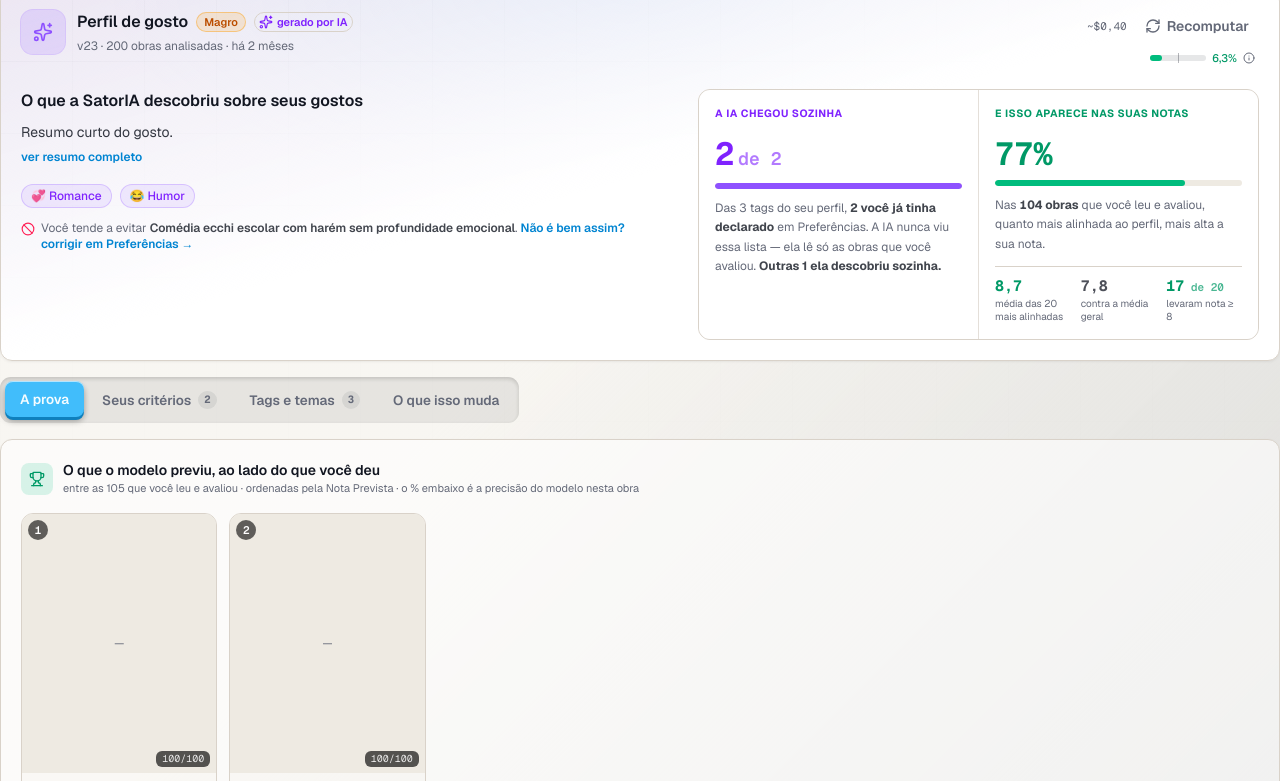
aba O que isso muda › chance vazia não vira número: sem previsão de verdade, sai '—'
This screenshot has width=1280, height=781.
What coordinates should you click on to do the following:
click the tab "O que isso muda"
I would click on:
 (446, 400)
Its box is [378,382,514,418].
(page scrolled)
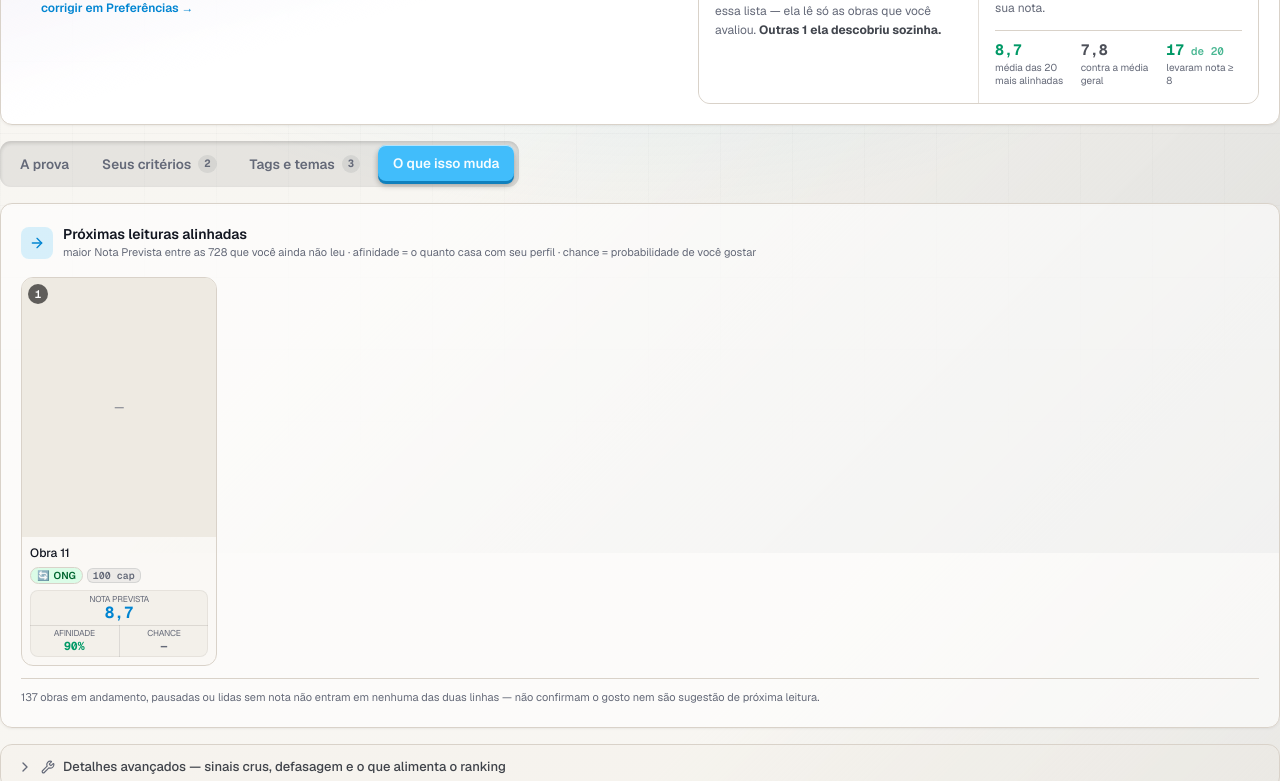
Result: the text "chance" is shown at [147,627,181,639]
Result: the text titled "probabilidade de você gostar" next to "90%" reads "—" at [160,638,167,653]
Result: the text titled "casa com seu perfil" reads "90%" at [64,638,85,653]
